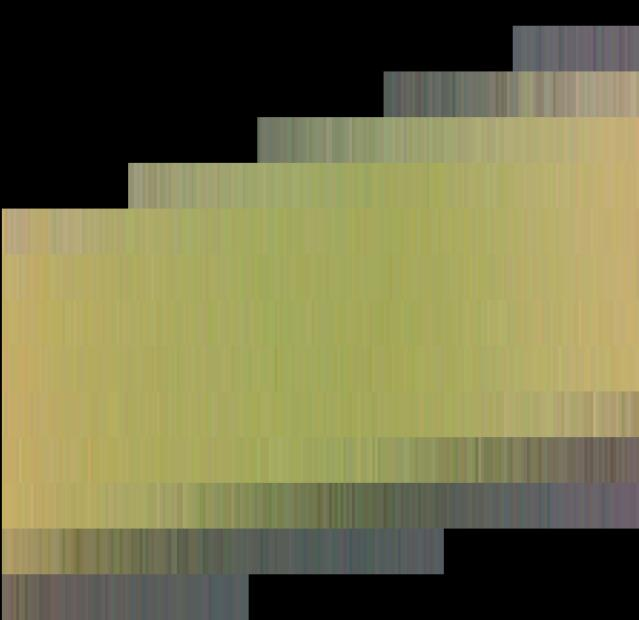traffic_sign: (1, 1, 639, 620)
